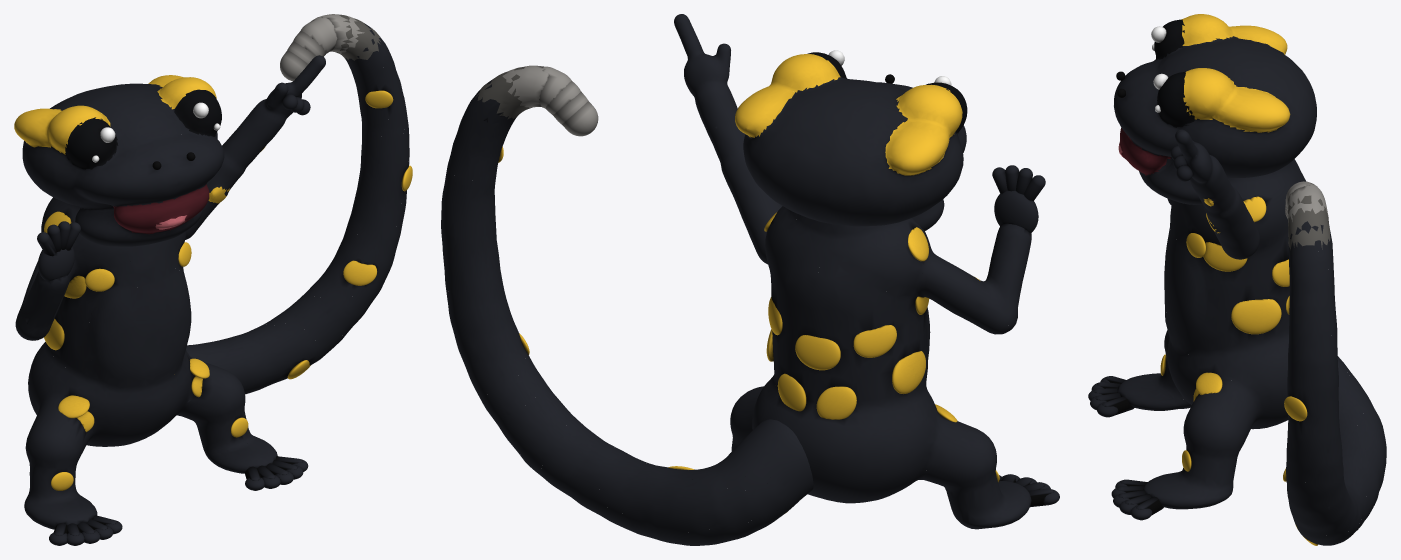
Rendered from jag-maste-ga-nu.glb.
3 renders of one model, left to right at view 1: azimuth 30°, elevation 25°; view 2: azimuth 150°, elevation 25°; view 3: azimuth 270°, elevation 25°, orthographic. The views are drawn at different scales.
Parts seen in each view (by area): view 1: salamandra__r0, cabeca__r0, rabo__r0, braco__r0, salamandra__r20, rabo__r1, rabo__r9, salamandra__r35, salamandra__r39, rabo__r4; view 2: salamandra__r0, rabo__r0, cabeca__r0, braco__r0, salamandra__r20, salamandra__r33, salamandra__r32, salamandra__r30, salamandra__r31, rabo__r4, salamandra__r28; view 3: salamandra__r0, cabeca__r0, rabo__r0, braco__r0, salamandra__r26, salamandra__r25, salamandra__r41, rabo__r10, salamandra__r40, salamandra__r27, salamandra__r45.
Boxes of the visible parts, x1,y1,x2,y2 form: salamandra__r0: [15, 197, 277, 529]; cabeca__r0: [14, 75, 224, 246]; rabo__r0: [186, 14, 409, 394]; braco__r0: [185, 55, 325, 239]; salamandra__r20: [38, 246, 74, 280]; rabo__r1: [300, 17, 337, 53]; rabo__r9: [343, 260, 377, 285]; salamandra__r35: [58, 395, 89, 418]; salamandra__r39: [85, 268, 114, 291]; rabo__r4: [280, 50, 307, 81]; salamandra__r0: [729, 206, 1031, 529]; rabo__r0: [441, 65, 813, 545]; cabeca__r0: [735, 52, 967, 230]; braco__r0: [674, 14, 782, 264]; salamandra__r20: [994, 190, 1038, 232]; salamandra__r33: [795, 335, 840, 370]; salamandra__r32: [816, 386, 856, 419]; salamandra__r30: [892, 351, 925, 393]; salamandra__r31: [853, 325, 896, 357]; rabo__r4: [562, 101, 598, 136]; salamandra__r28: [777, 373, 806, 411]; salamandra__r0: [1117, 159, 1306, 509]; cabeca__r0: [1114, 14, 1316, 204]; rabo__r0: [1286, 184, 1386, 545]; braco__r0: [1175, 129, 1259, 259]; salamandra__r26: [1231, 299, 1281, 334]; salamandra__r25: [1203, 242, 1247, 271]; salamandra__r41: [1196, 372, 1222, 394]; rabo__r10: [1284, 396, 1307, 421]; salamandra__r40: [1243, 196, 1266, 222]; salamandra__r27: [1272, 259, 1289, 286]; salamandra__r45: [1186, 233, 1205, 257].
Bounding box in the file's own units: 2.12 × 1.75 × 1.15.
